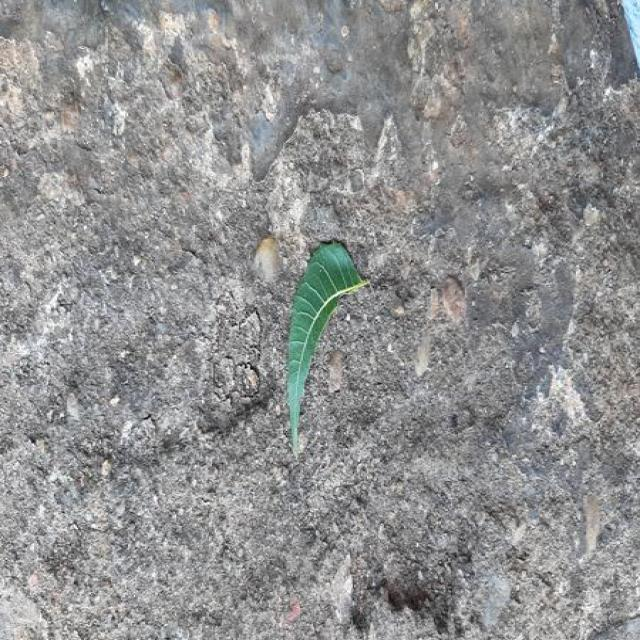neem: (287, 242, 367, 457)
